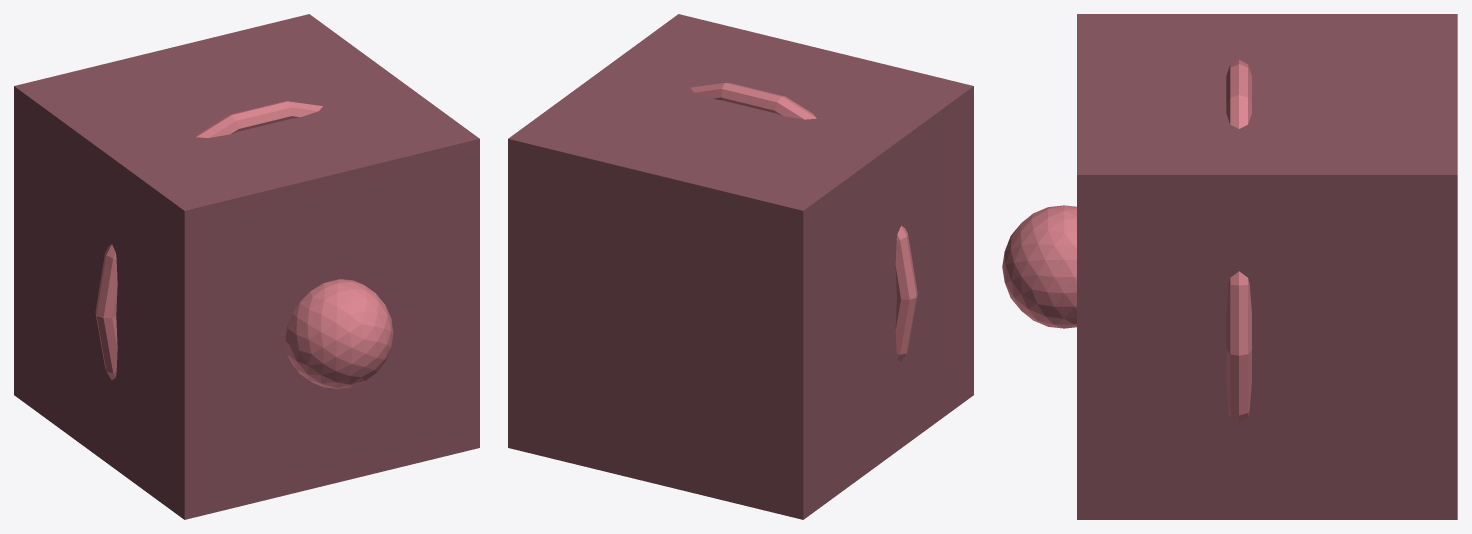
File: dark_ritual.glb
The picture shows the model from 3 angles, left to right: view 1: azimuth 30°, elevation 25°; view 2: azimuth 150°, elevation 25°; view 3: azimuth 270°, elevation 25°; orthographic projection. The views are drawn at different scales.
Visible parts, largest first — view 1: world; view 2: world; view 3: world.
Part boxes in pixels (left/top/right/bottom): world: left=14, top=14, right=479, bottom=519; world: left=508, top=14, right=973, bottom=519; world: left=1002, top=14, right=1457, bottom=519.
Bounding box in the file's own units: 1.49 × 1.47 × 1.62.
